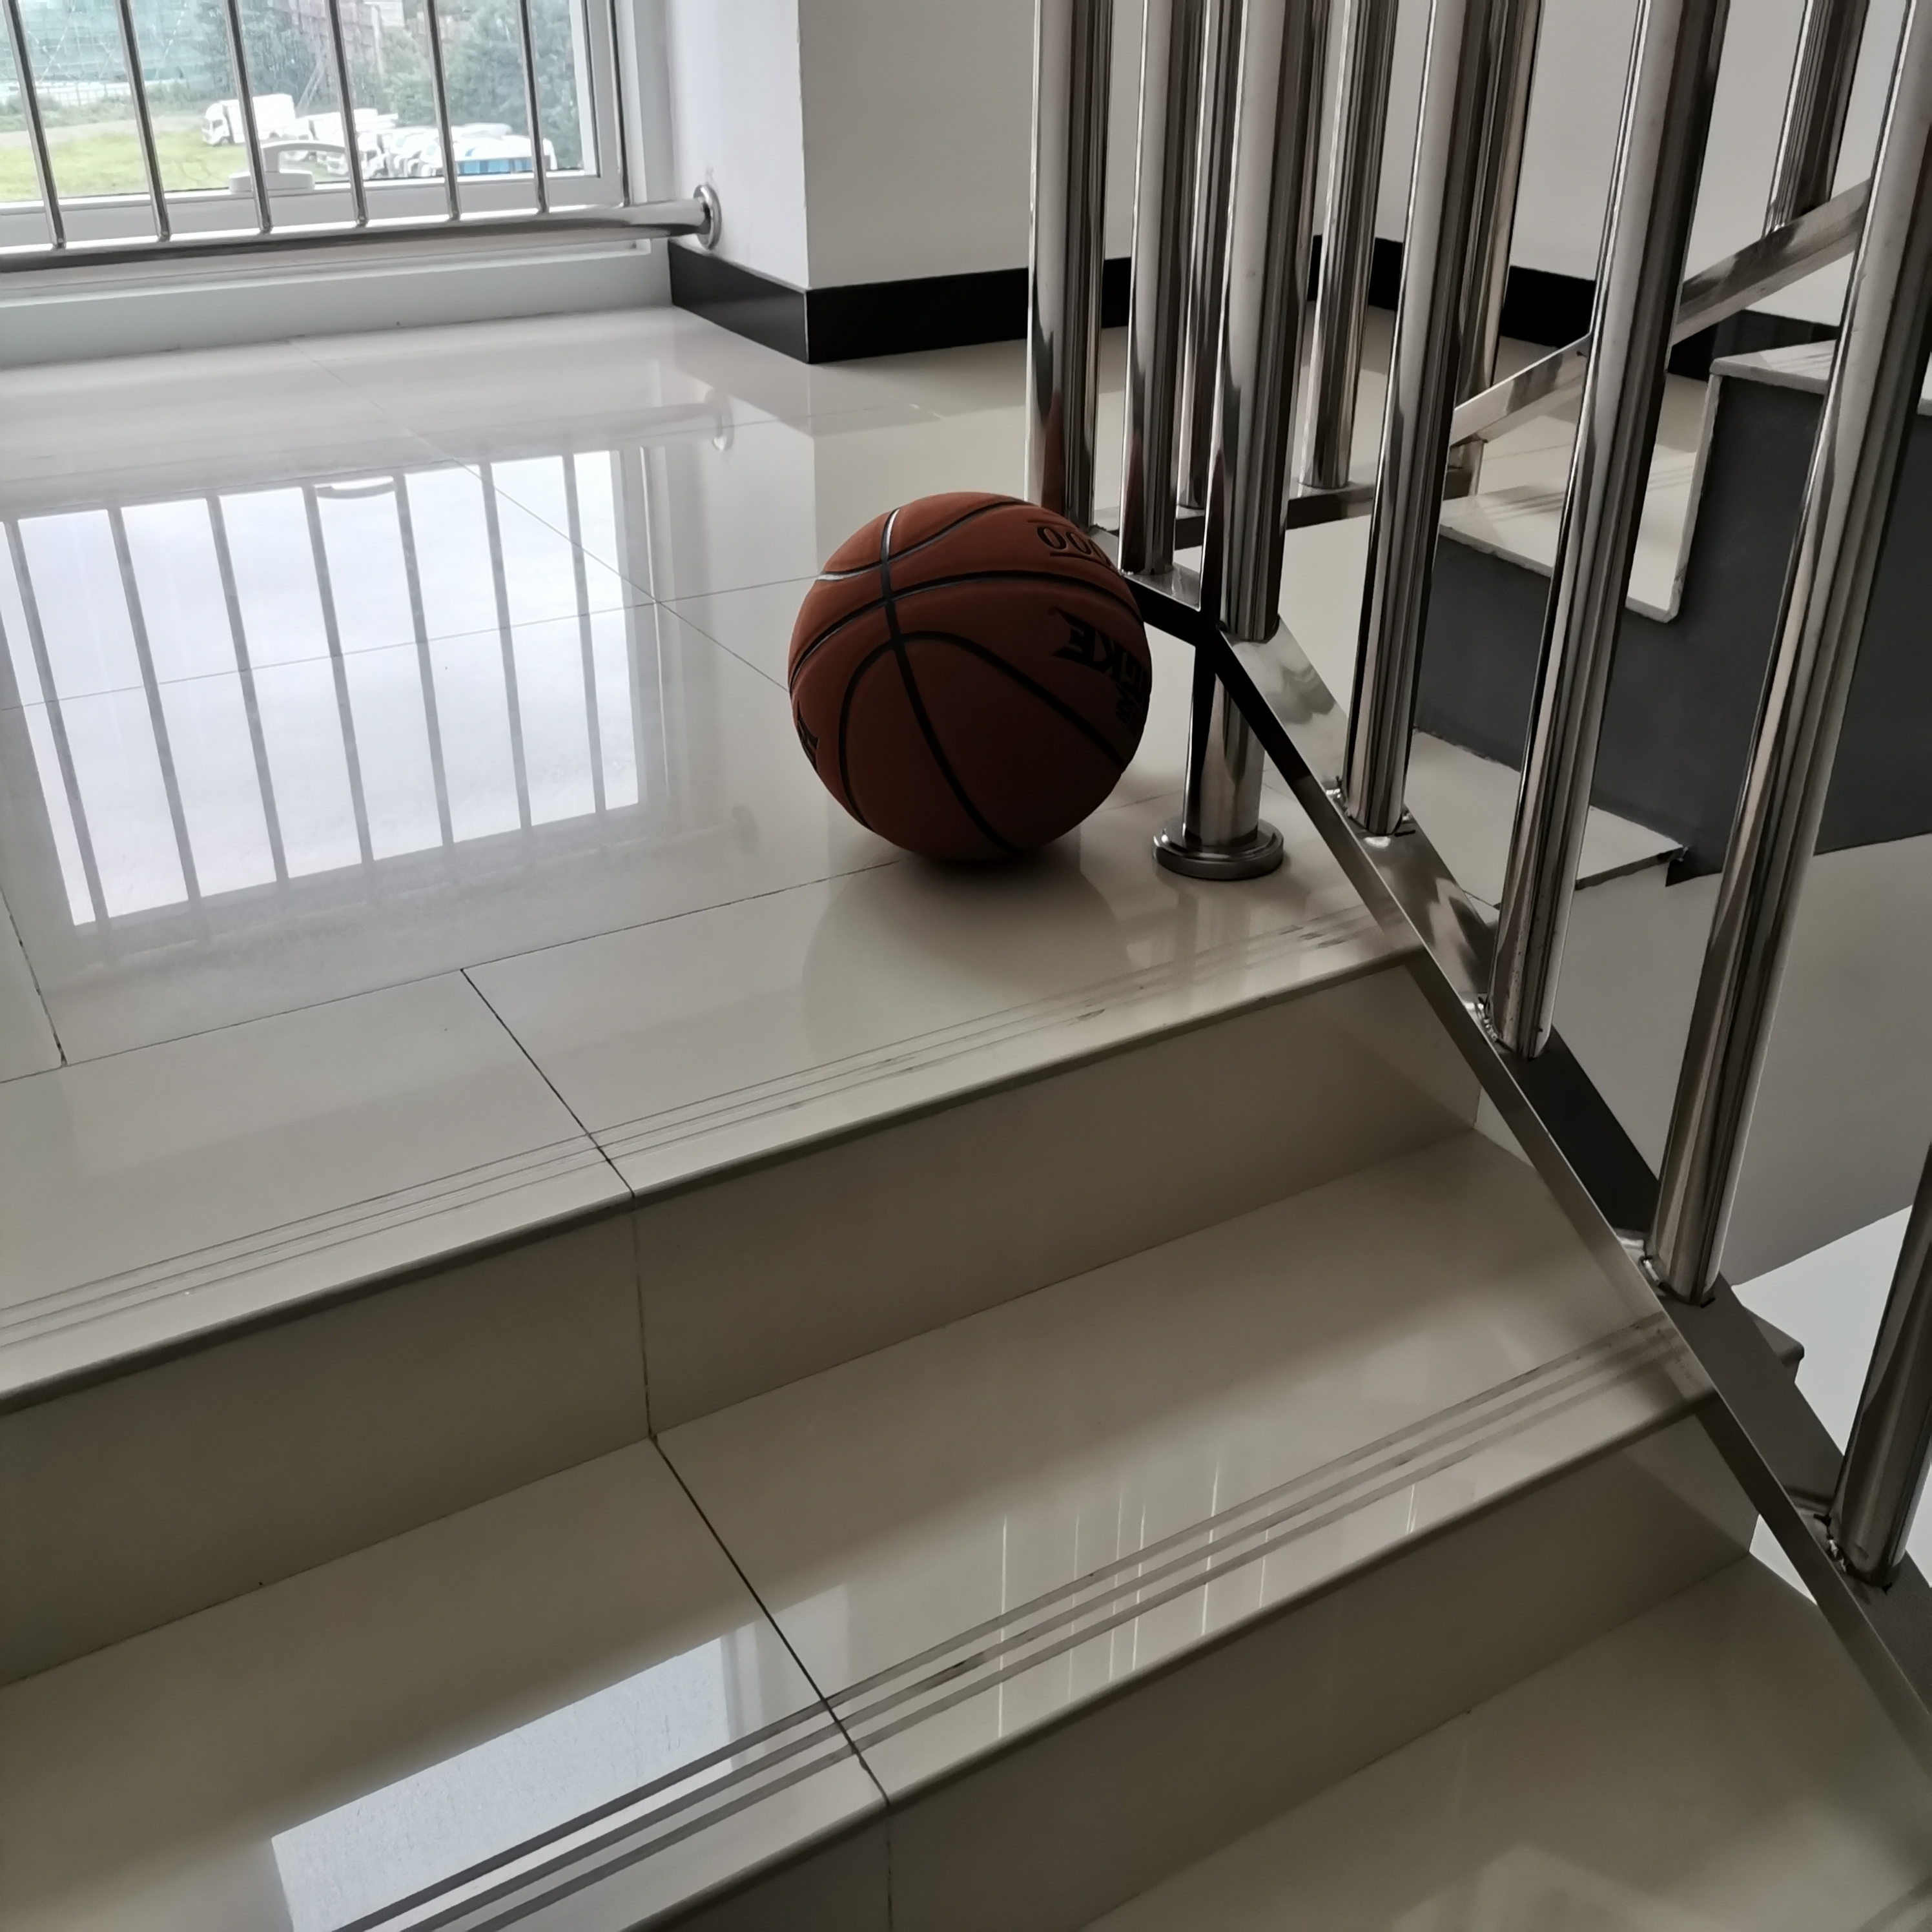basketball: (786, 494, 1155, 872)
